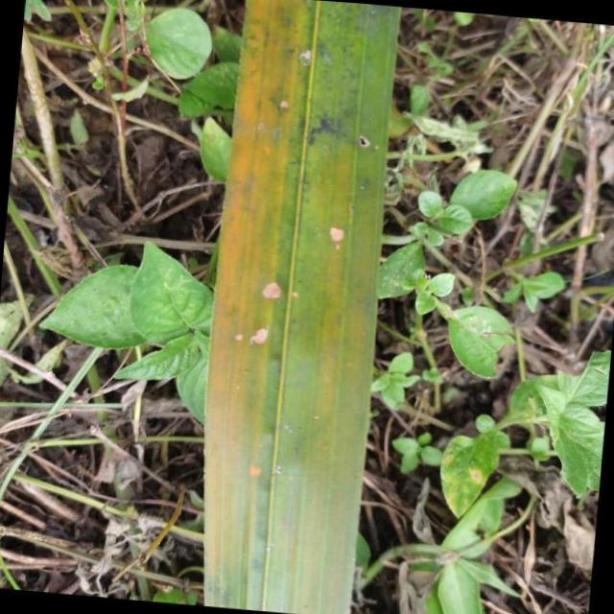Megnesium: (205, 0, 404, 614)
